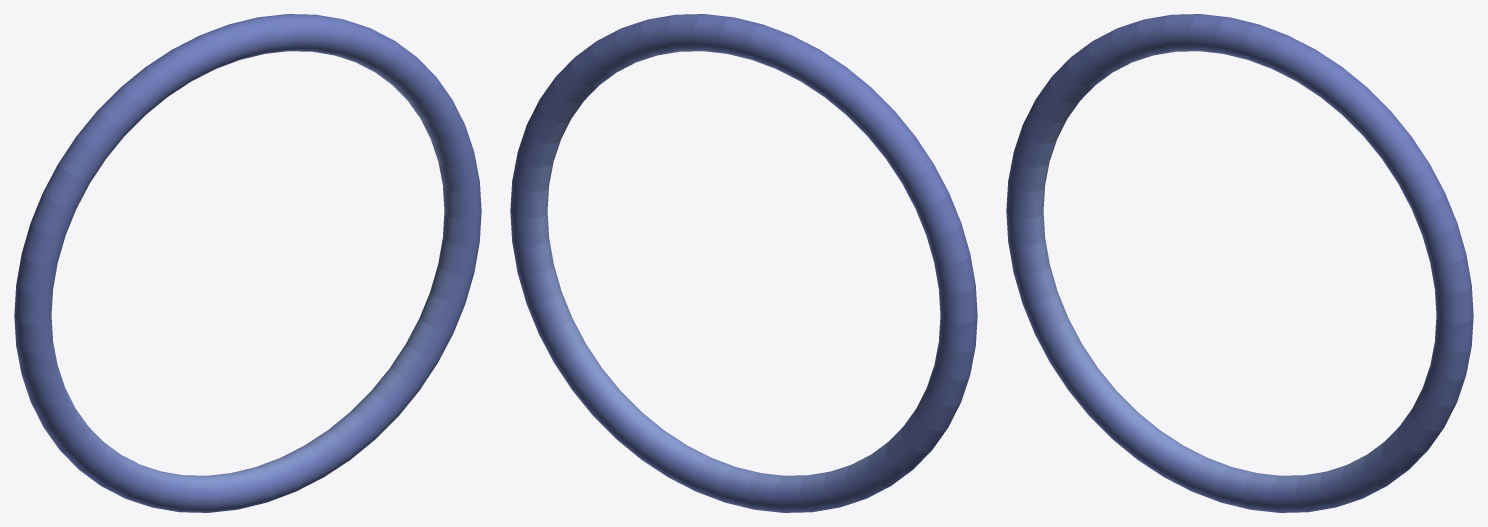
3 views of the same model, side by side, from view 1: azimuth 30°, elevation 25°; view 2: azimuth 150°, elevation 25°; view 3: azimuth 330°, elevation 25° (orthographic).
Visible parts, largest first — view 1: world; view 2: world; view 3: world.
Part boxes in pixels (bbox=[...]): world: bbox=[14, 14, 481, 512]; world: bbox=[510, 14, 977, 512]; world: bbox=[1006, 14, 1473, 512].
Size of the model in its own units: 28.67 by 28.61 by 2.
